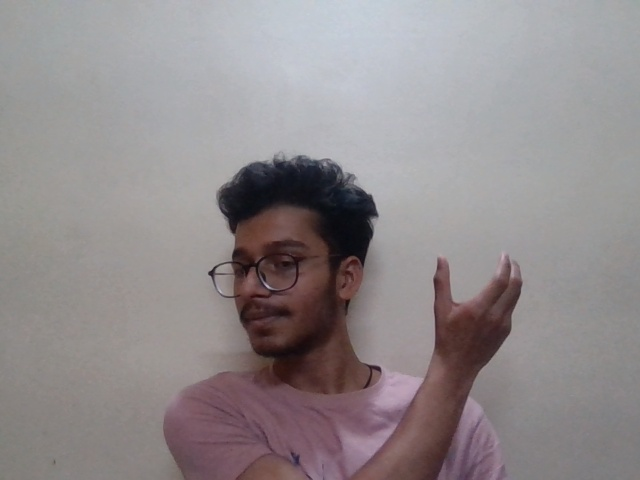U: (420, 245, 538, 408)
